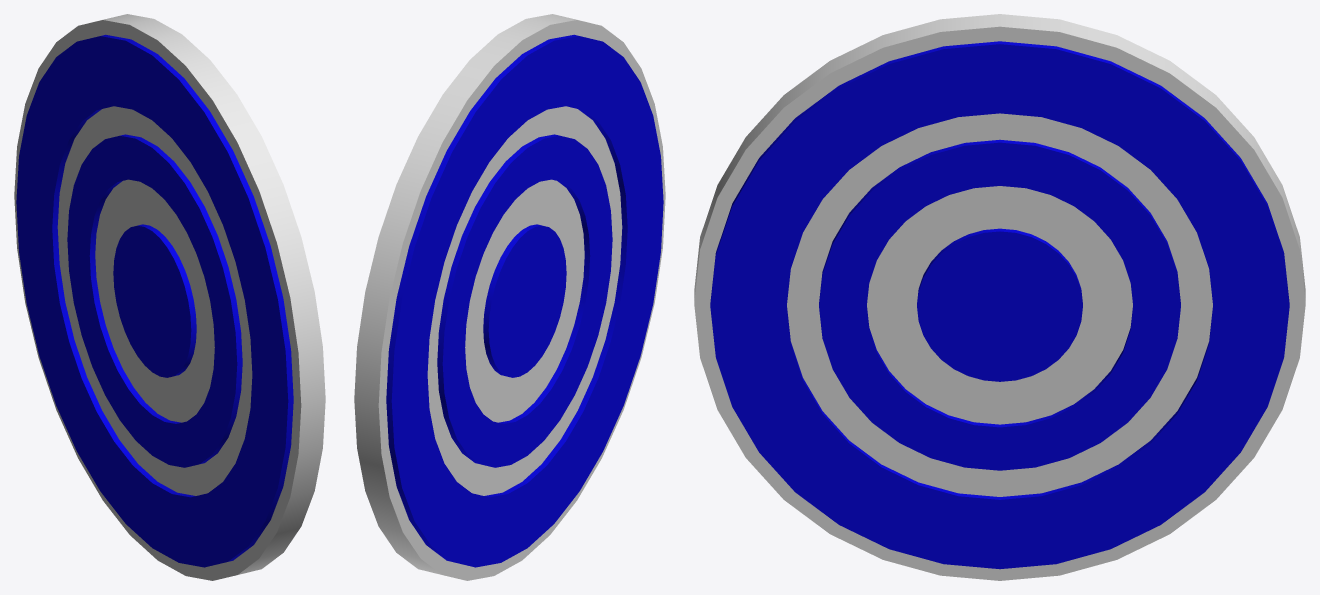
File: Target.fbx
3 views of the same model, side by side, from view 1: azimuth 30°, elevation 25°; view 2: azimuth 150°, elevation 25°; view 3: azimuth 270°, elevation 25° (orthographic). The views are drawn at different scales.
Parts seen in each view (by area): view 1: Cylinder.004; view 2: Cylinder.004; view 3: Cylinder.004.
Part boxes in pixels (x1,y1,x2,y2): Cylinder.004: (14, 14, 325, 580); Cylinder.004: (354, 14, 665, 580); Cylinder.004: (694, 14, 1305, 580).
Size of the model in its own units: 14.22 by 200 by 200.
